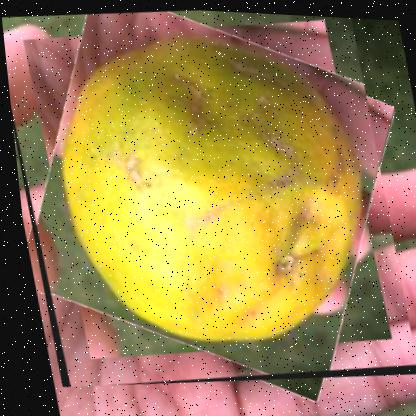orange: (0, 0, 416, 403)
